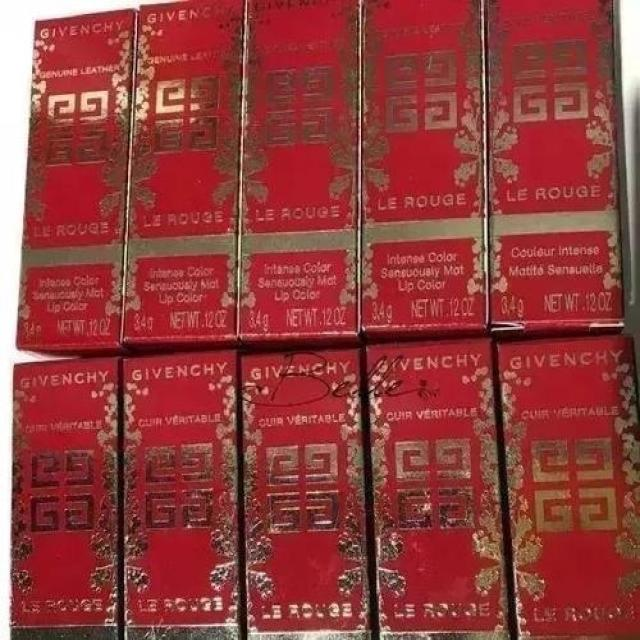box: (484, 0, 623, 340), (364, 337, 515, 640), (361, 0, 492, 345), (122, 0, 246, 356), (497, 333, 640, 640), (17, 7, 140, 363), (238, 0, 362, 351), (239, 345, 375, 640), (120, 349, 244, 640), (12, 356, 122, 640)
